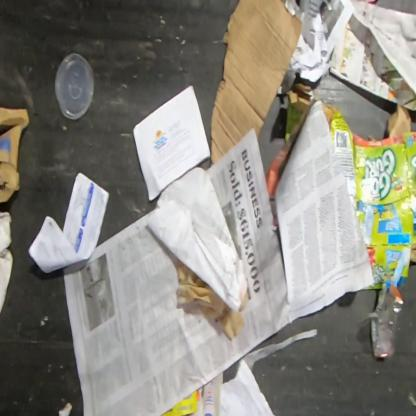cardboard: (322, 102, 416, 290), (209, 0, 304, 168), (0, 105, 31, 203), (284, 81, 321, 143)
rigid_plastic: (54, 52, 95, 122)
soft_plastic: (370, 282, 405, 359)
